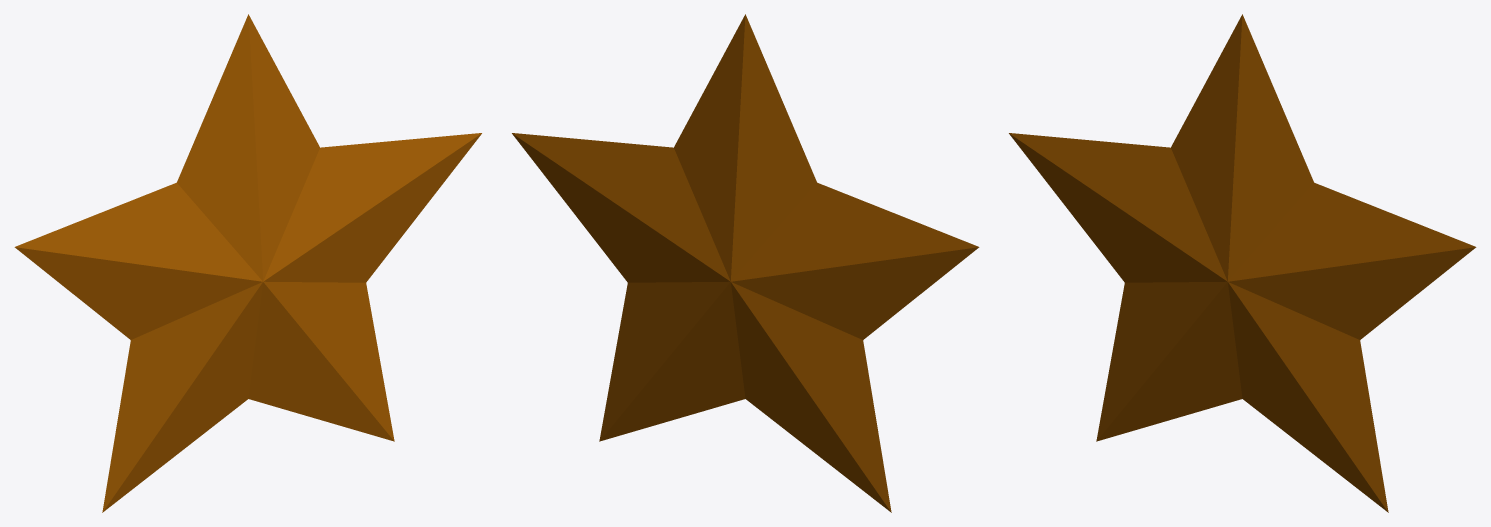
Rendered from Sign_2.fbx.
3 views of the same model, side by side, from view 1: azimuth 30°, elevation 25°; view 2: azimuth 150°, elevation 25°; view 3: azimuth 330°, elevation 25° (orthographic).
Parts seen in each view (by area): view 1: Sign_2; view 2: Sign_2; view 3: Sign_2.
Part boxes in pixels (left/top/right/bottom): Sign_2: left=14, top=14, right=481, bottom=512; Sign_2: left=512, top=14, right=979, bottom=512; Sign_2: left=1009, top=14, right=1476, bottom=512.
Bounding box in the file's own units: 195 × 185 × 21.24.
